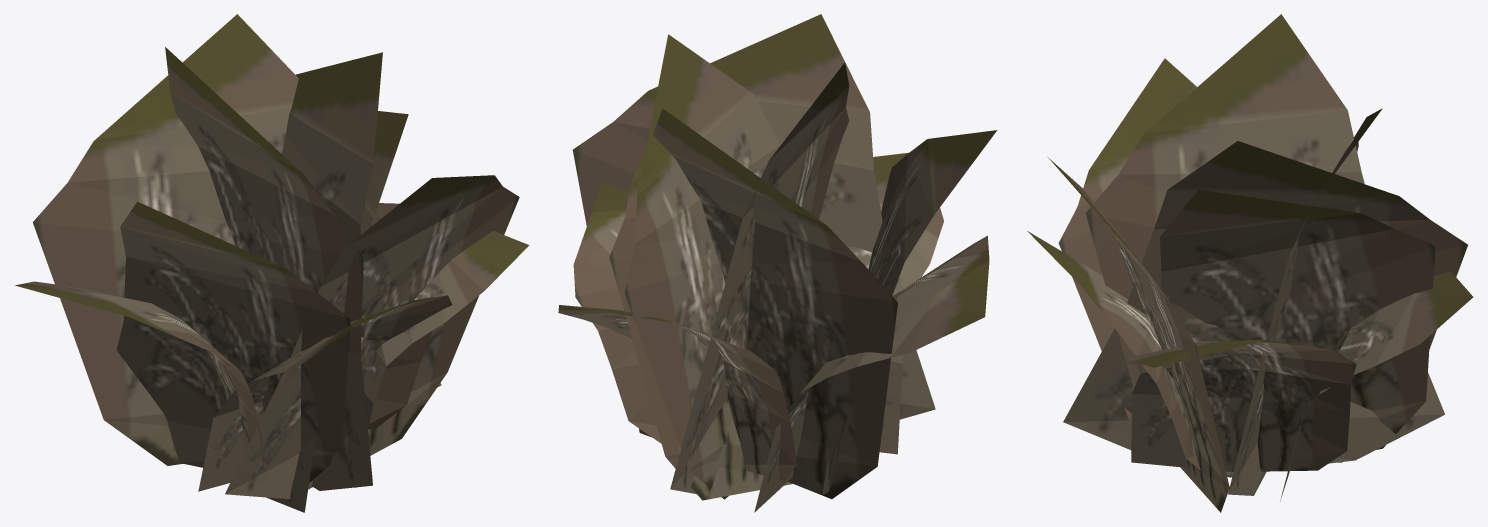
File: grass2.fbx
3 views of the same model, side by side, from view 1: azimuth 30°, elevation 25°; view 2: azimuth 150°, elevation 25°; view 3: azimuth 270°, elevation 25° (orthographic). The views are drawn at different scales.
Parts seen in each view (by area): view 1: SM_LF_Grass03.mo; view 2: SM_LF_Grass03.mo; view 3: SM_LF_Grass03.mo.
Boxes of the visible parts, x1=… form: SM_LF_Grass03.mo: x1=15, y1=14, x2=529, y2=512; SM_LF_Grass03.mo: x1=558, y1=14, x2=997, y2=512; SM_LF_Grass03.mo: x1=1027, y1=14, x2=1473, y2=512.
Bounding box in the file's own units: 75.93 × 71.56 × 67.44.
